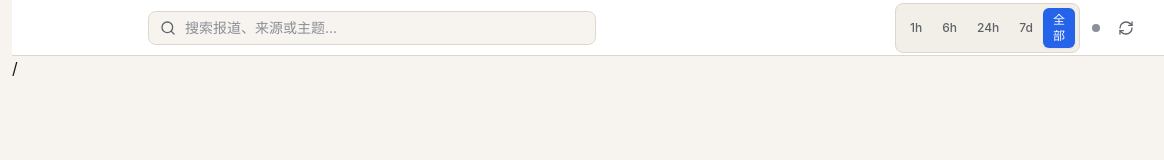
Test: TopBar › 输入关键词后按回车跳转到搜索页
In the field labelled "搜索报道、来源或主题": (372, 28) 148,10 -> 596,44, type "AI"
Then press Enter
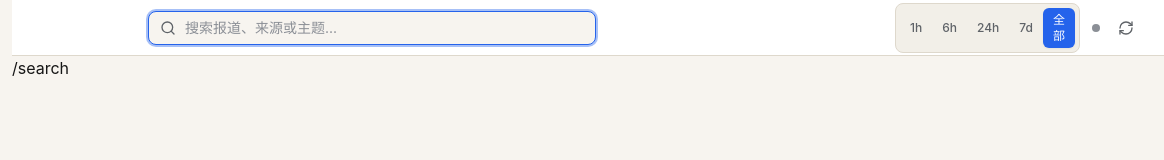
Result: the text with test id "location-probe" reads "/search" at 12,58 -> 69,78
